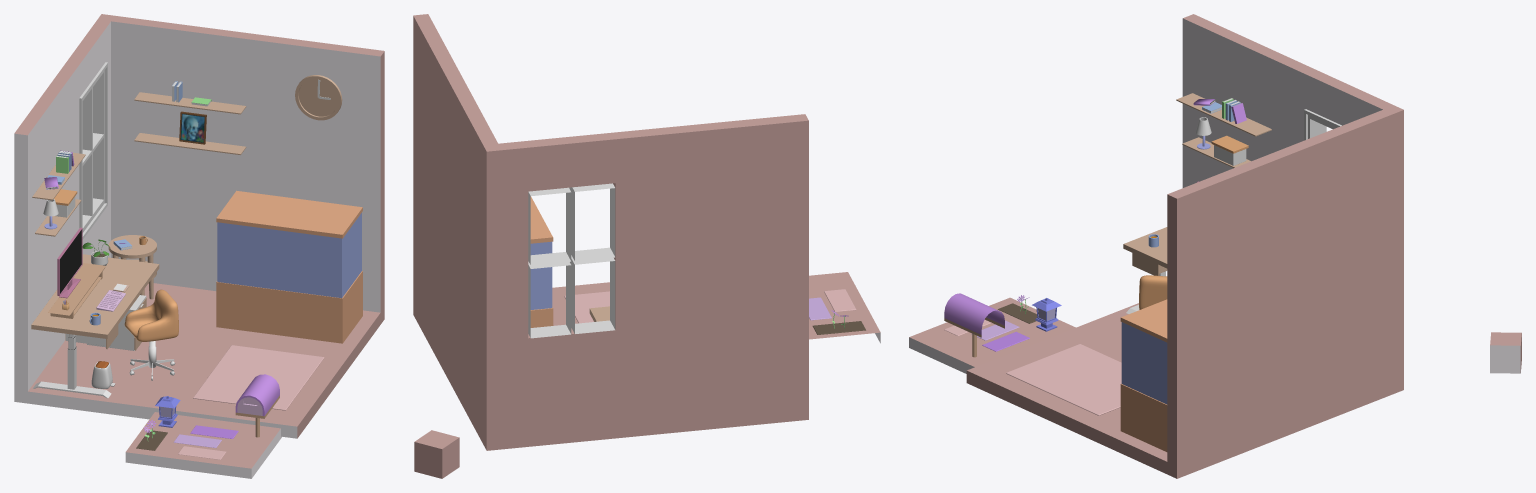
3 renders of one model, left to right at view 1: azimuth 30°, elevation 25°; view 2: azimuth 150°, elevation 25°; view 3: azimuth 270°, elevation 25°, orthographic. The views are drawn at different scales.
Parts seen in each view (by area): view 1: Plane014_2, Plane014_1, Cube136_1, Cube136, Cylinder012, Cube132_2, Plane014, Cube105, Cylinder010_6, Chair, Cube105_1, Cube132 (+13 smaller); view 2: Plane014_1, Plane014, Cube105, Cube, Cube136, Cube136_1, Cube132_2, Dirt, FloorThird; view 3: Plane014_1, Plane014_2, Cube132_2, Cube136_1, Cube105, Cube136, Cylinder018_1, Cylinder012, Cube, Cylinder010_6, Chair, Cube105_1 (+1 smaller).
Boxes of the visible parts, x1,y1,x2,y2 form: Plane014_2: (14,21,380,438); Plane014_1: (14,14,384,438); Cube136_1: (216,190,362,343); Cube136: (217,213,361,298); Cylinder012: (31,235,159,349); Cube132_2: (193,345,324,410); Plane014: (79,62,107,239); Cube105: (126,412,280,468); Cylinder010_6: (32,92,246,236); Chair: (124,289,178,341); Cube105_1: (125,429,281,478); Cube132: (87,295,175,388); Plane014_1: (413,14,808,450); Plane014: (528,183,615,338); Cube105: (809,272,880,339); Cube: (414,430,459,478); Cube136: (530,241,552,309); Cube136_1: (530,196,553,327); Cube132_2: (564,291,609,323); Dirt: (812,321,865,334); FloorThird: (824,289,856,311); Plane014_1: (966,14,1403,478); Plane014_2: (1182,18,1382,187); Cube132_2: (1006,344,1121,415); Cube136_1: (1120,299,1167,451); Cube105: (909,297,1075,366); Cube136: (1121,322,1167,404); Cylinder018_1: (944,293,1004,334); Cylinder012: (1123,227,1167,275); Cube: (1490,332,1521,373); Cylinder010_6: (1176,93,1271,167); Chair: (1139,275,1167,309); Cube105_1: (909,337,974,373).
Bounding box in the file's own units: 27.58 × 19.65 × 38.64.
Materials: 42 (1 with a texture image).
